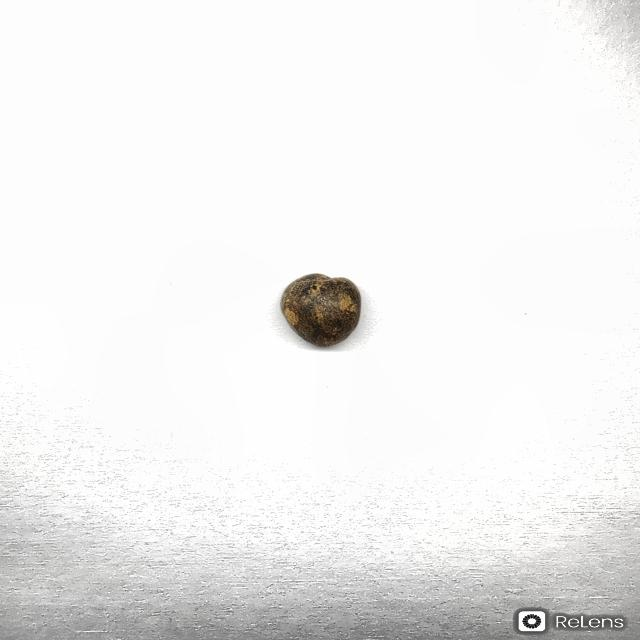Black: (279, 272, 362, 347)
